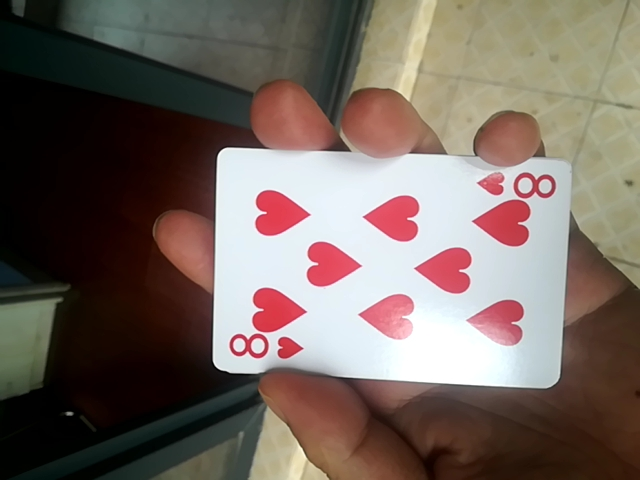hx 8: (218, 145, 571, 386)
